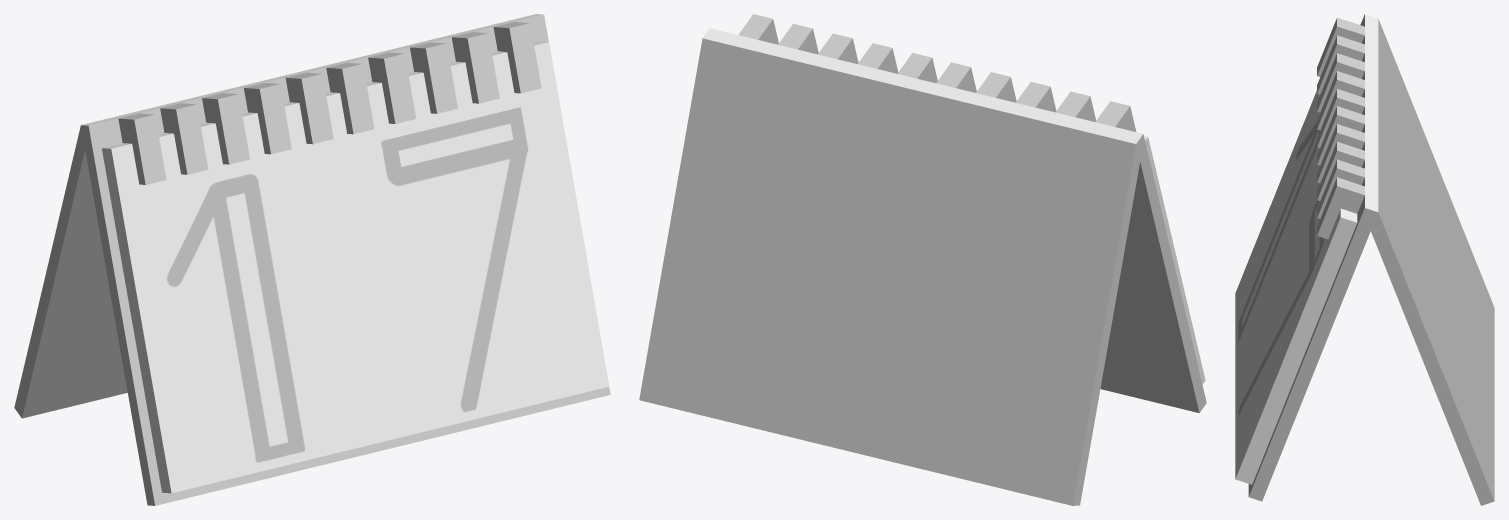
Rendered from Calendário.FBX.
3 renders of one model, left to right at view 1: azimuth 30°, elevation 25°; view 2: azimuth 150°, elevation 25°; view 3: azimuth 270°, elevation 25°, orthographic. The views are drawn at different scales.
Visible parts, largest first — view 1: Box031; view 2: Box031; view 3: Box031.
Boxes of the visible parts, x1,y1,x2,y2 form: Box031: (14, 14, 610, 505); Box031: (639, 14, 1206, 505); Box031: (1235, 14, 1494, 505).
Bounding box in the file's own units: 135 × 99.75 × 76.24.
